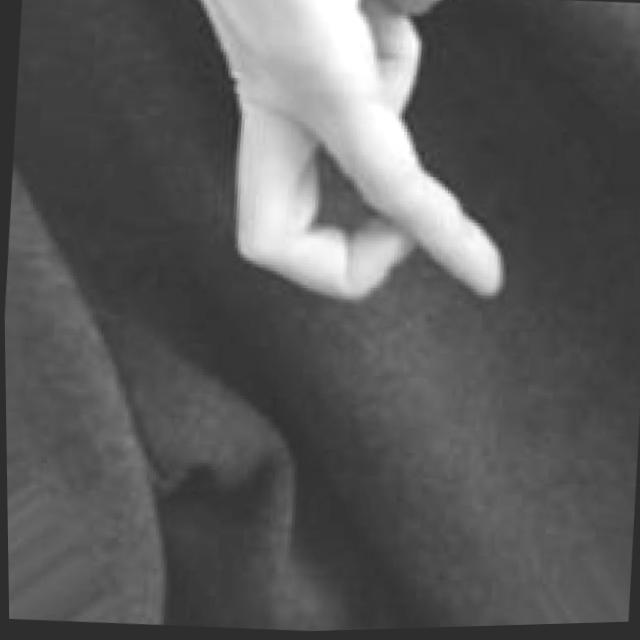P: (163, 0, 551, 338)
